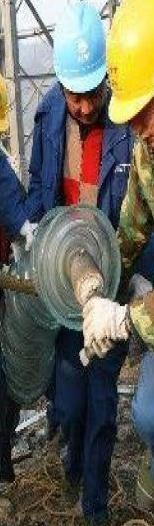gloves: (79, 295, 131, 367), (0, 198, 19, 262)
hard-hat: (51, 0, 107, 93)
ppe-suit: (0, 249, 18, 339)
